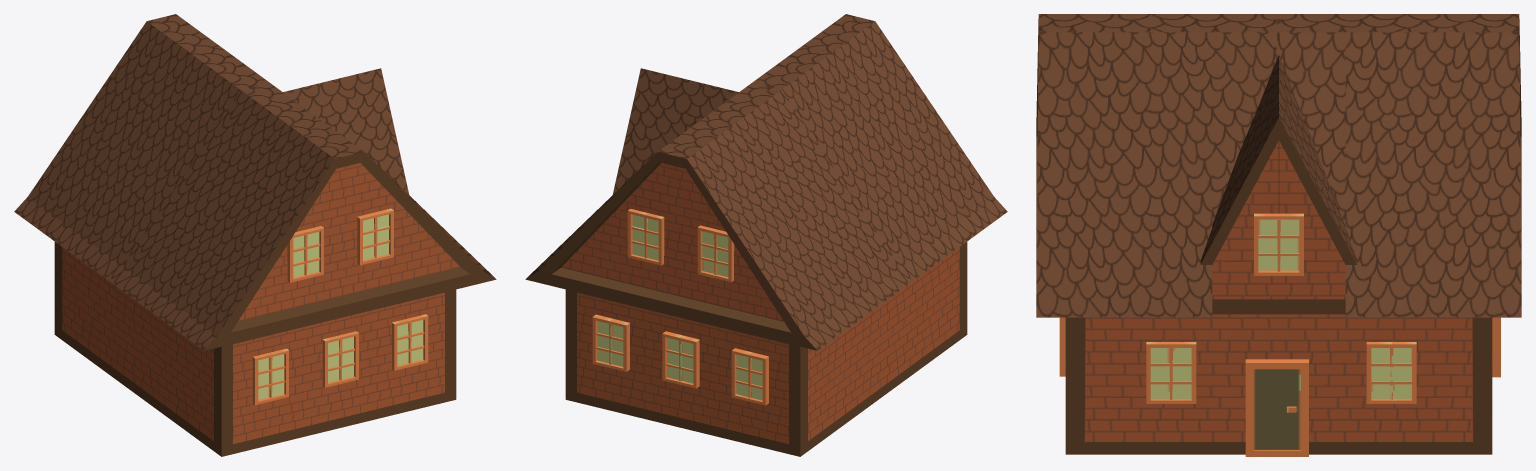
File: house2.fbx
3 views of the same model, side by side, from view 1: azimuth 30°, elevation 25°; view 2: azimuth 150°, elevation 25°; view 3: azimuth 270°, elevation 25° (orthographic). The views are drawn at different scales.
Parts seen in each view (by area): view 1: Cube; view 2: Cube; view 3: Cube.
Boxes of the visible parts, box(x1,y1,x2,y2) form: Cube: box(14, 14, 496, 456); Cube: box(525, 14, 1007, 456); Cube: box(1036, 14, 1521, 456).
Bounding box in the file's own units: 2645 × 2424 × 2976.
Materials: 1 (1 with a texture image).
